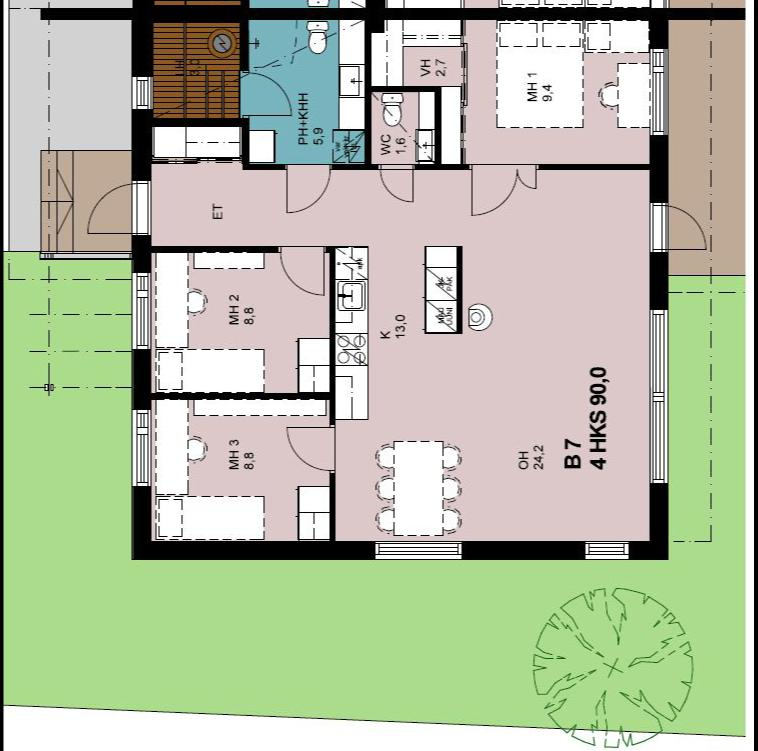door: (83, 178, 152, 238), (654, 200, 712, 253), (466, 162, 520, 218), (284, 158, 334, 215), (285, 419, 338, 472), (279, 243, 327, 296), (376, 159, 417, 204), (518, 160, 542, 190)
window: (645, 302, 675, 486), (368, 538, 464, 562), (650, 42, 673, 140), (130, 404, 154, 491), (135, 266, 154, 354), (129, 70, 156, 117), (583, 536, 633, 560)
